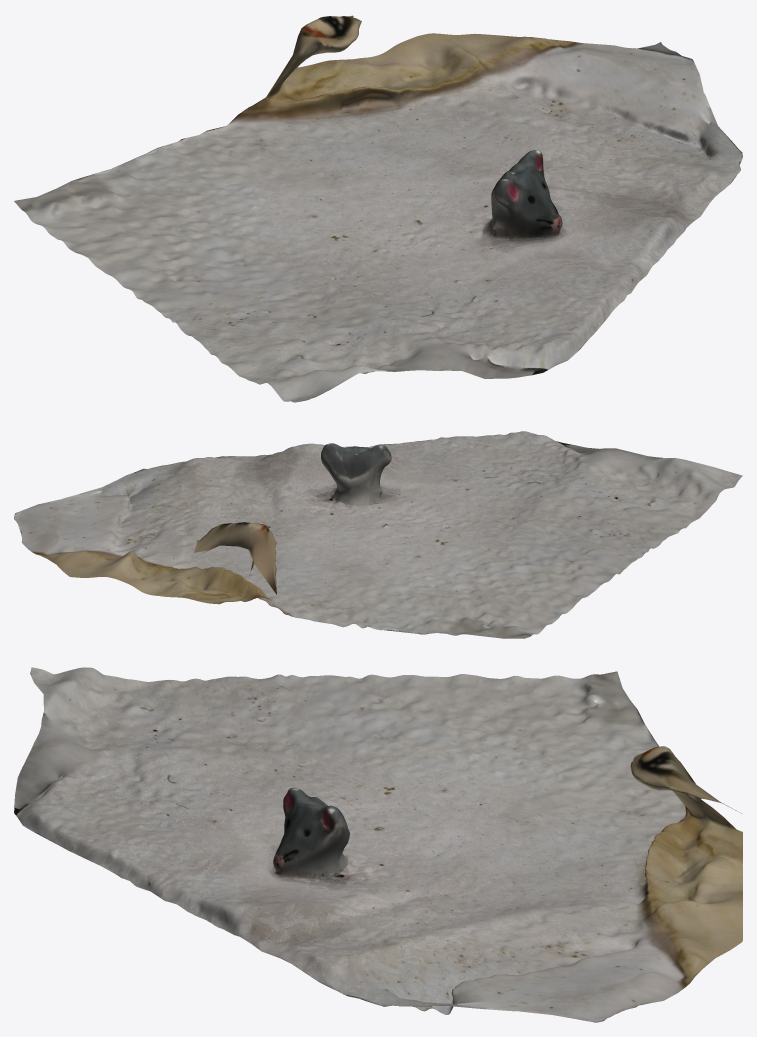
3 renders of one model, top to bottom at view 1: azimuth 30°, elevation 25°; view 2: azimuth 150°, elevation 25°; view 3: azimuth 270°, elevation 25°, orthographic. The views are drawn at different scales.
Size of the model in its own units: 1.97 by 0.3351 by 1.79.
Materials: 1 (1 with a texture image).
